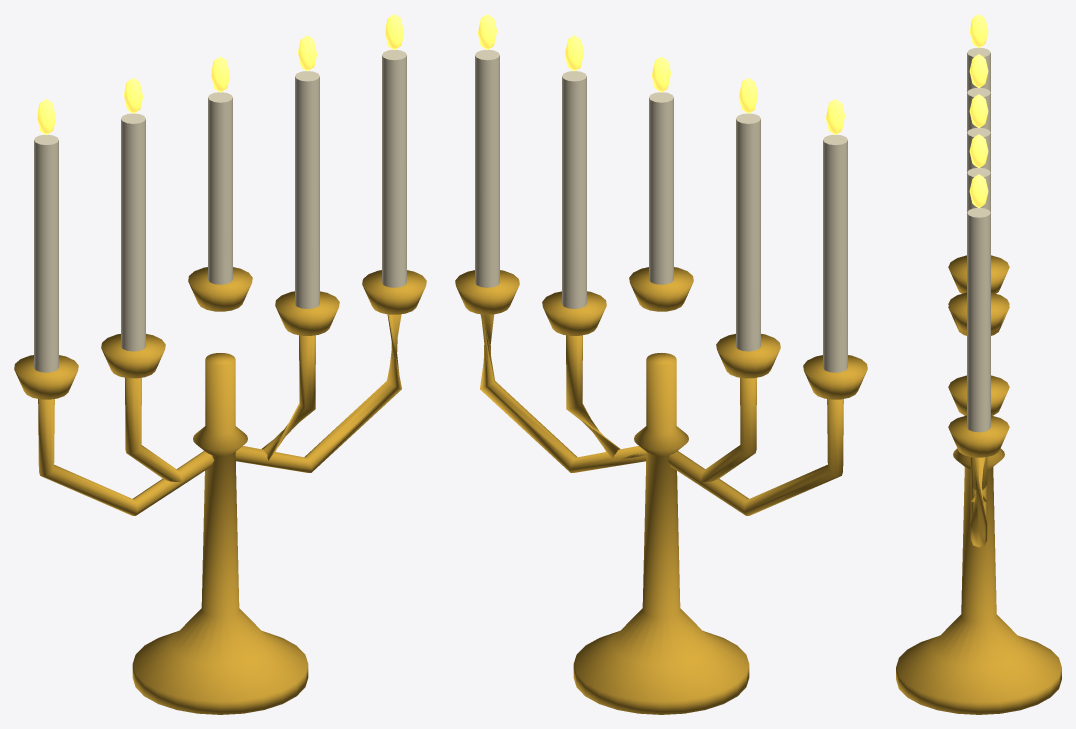
File: candelabra.glb
3 views of the same model, side by side, from view 1: azimuth 30°, elevation 25°; view 2: azimuth 150°, elevation 25°; view 3: azimuth 270°, elevation 25° (orthographic). The views are drawn at different scales.
Parts seen in each view (by area): view 1: candelabra; view 2: candelabra; view 3: candelabra.
Part boxes in pixels (x1,y1,x2,y2): candelabra: (14, 14, 426, 714); candelabra: (455, 14, 867, 714); candelabra: (896, 14, 1061, 714).
Size of the model in its own units: 0.372 by 0.546 by 0.14.
